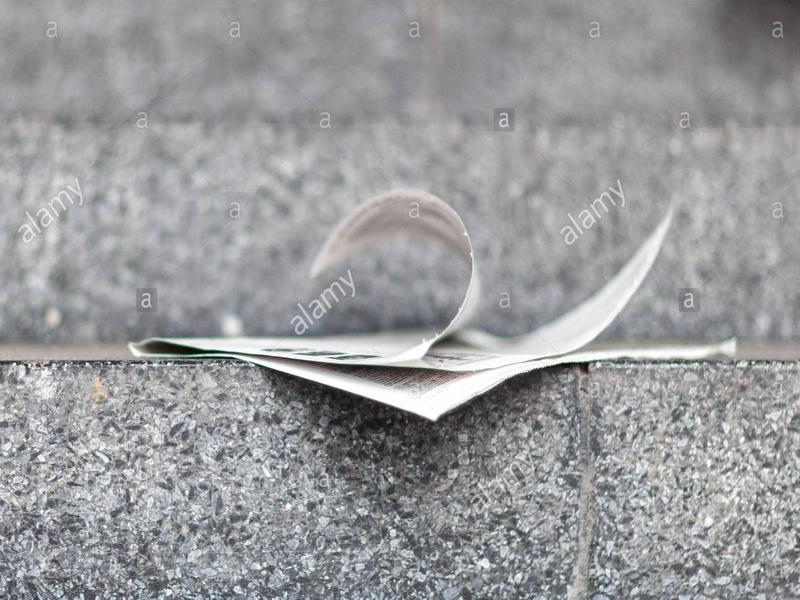paper: (126, 184, 746, 424)
